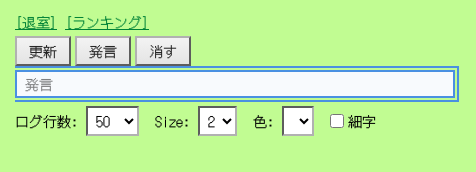
Scenario: ChatRoom › [消す] の失敗（削除対象の発言がありません）も発言と同じ場所に表示する
The width and height of the screenshot is (476, 172).
Click the button "消す": (163, 51) [135,36,191,66]
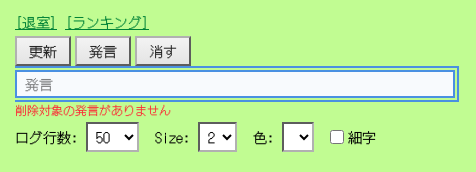
Expected: the text "削除対象の発言がありません" is shown, [15,101,171,118]
